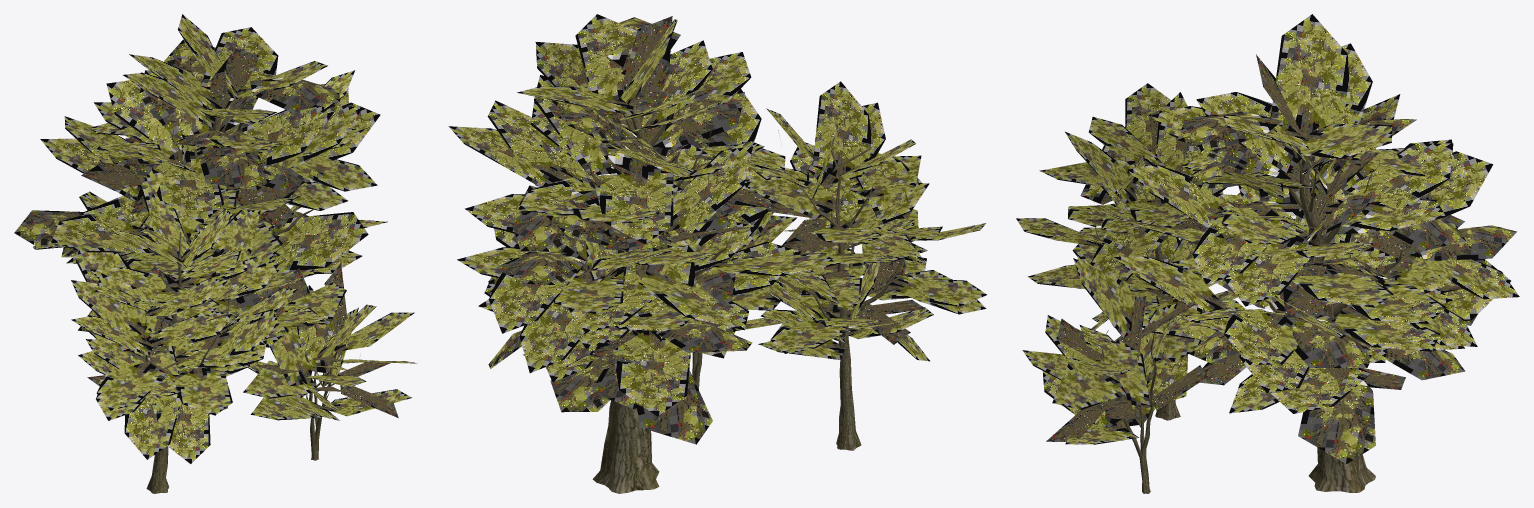
File: oak_trees.glb
3 views of the same model, side by side, from view 1: azimuth 30°, elevation 25°; view 2: azimuth 150°, elevation 25°; view 3: azimuth 270°, elevation 25° (orthographic). The views are drawn at different scales.
Visible parts, largest first — view 1: leafplanes_2_196_0_leaf1_0, Treesmall_bark1_0; view 2: leafplanes_2_196_0_leaf1_0, Treesmall_bark1_0; view 3: leafplanes_2_196_0_leaf1_0, Treesmall_bark1_0.
Part boxes in pixels (<box>): leafplanes_2_196_0_leaf1_0: <box>14,14,417,463</box>; Treesmall_bark1_0: <box>130,53,353,493</box>; leafplanes_2_196_0_leaf1_0: <box>449,14,986,444</box>; Treesmall_bark1_0: <box>542,56,907,493</box>; leafplanes_2_196_0_leaf1_0: <box>1016,14,1519,463</box>; Treesmall_bark1_0: <box>1088,105,1411,493</box>.
Size of the model in its own units: 1.97 by 2.04 by 2.07.
2 materials, 2 textured.
